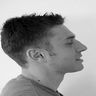ear: (23, 46, 51, 67)
